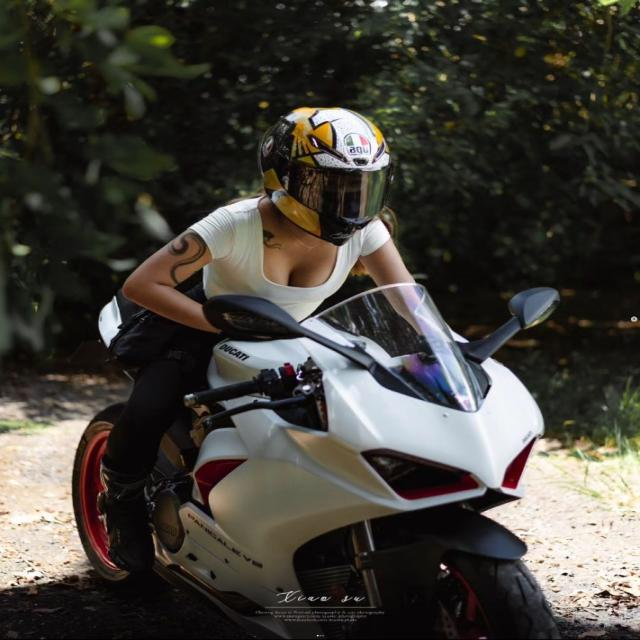helmet: (252, 102, 396, 251)
